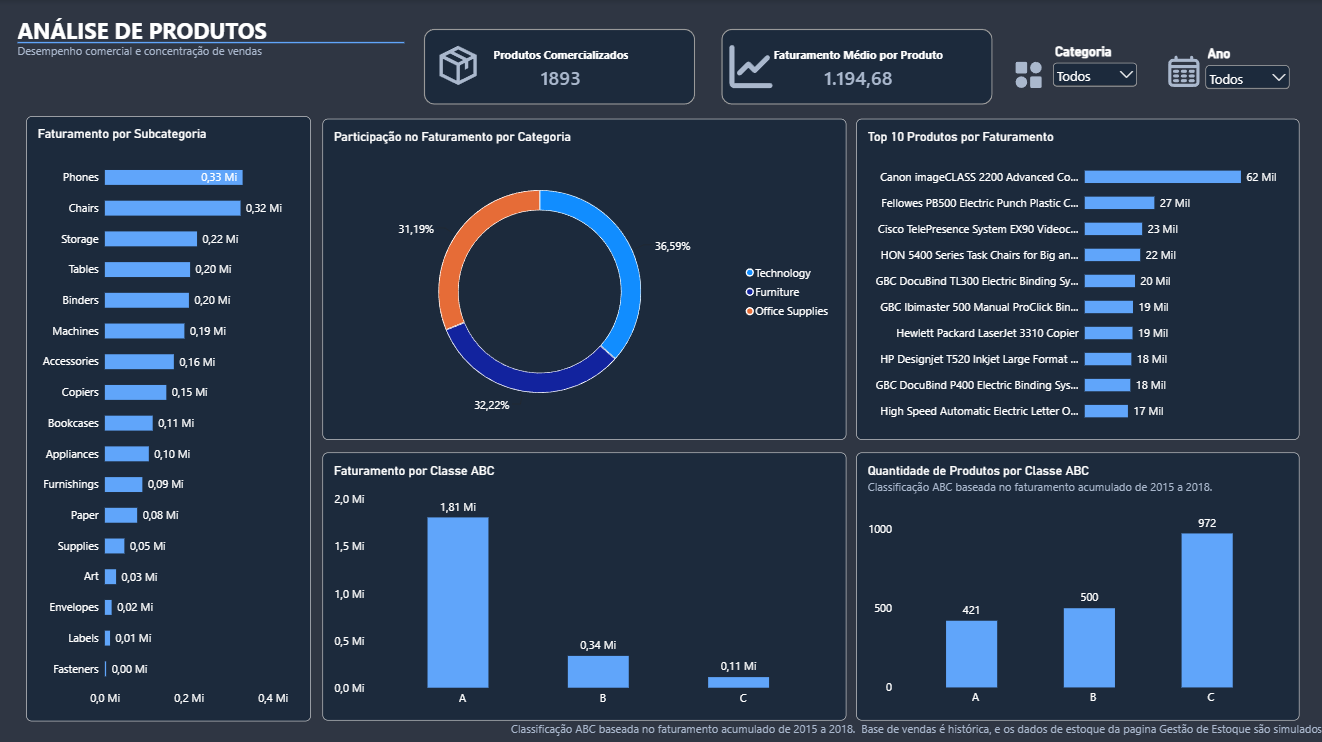

What the dashboard file says about the page in this screenshot:
{"tool":"powerbi","page":{"name":"Análise de Produtos","canvas":[1920,1080],"ordinal":1},"visuals":[{"type":"textbox","box":[26,22,610,58],"z":0},{"type":"cardVisual","fields":{"Data":["Fato_Vendas.Produtos Comercializados"]},"box":[613.3,41.7,393.3,110],"z":0,"group":"g5"},{"type":"image","box":[615.5,53.9,96.1,78.6],"z":1000,"group":"g5"},{"type":"textbox","box":[26,62,424,46],"z":1000},{"type":"shape","box":[26,42,560,40],"z":2000},{"type":"clusteredBarChart","title":"Top 10 Produtos por Faturamento","fields":{"Category":["Dim_Produtos.Nome_Produto"],"Y":["Fato_Vendas.Faturamento Total"]},"box":[1240,171.7,641.7,465],"z":3000},{"type":"clusteredBarChart","title":"Faturamento por Subcategoria","fields":{"Category":["Dim_Produtos.Subcategoria"],"Y":["Fato_Vendas.Faturamento Total"]},"box":[38,168,412,876],"z":4000},{"type":"slicer","fields":{"Values":["Dim_Produtos.Categoria"]},"box":[1510,53.3,151.7,85],"z":5000,"group":"g4"},{"type":"donutChart","title":"Participação no Faturamento por Categoria","fields":{"Category":["Dim_Produtos.Categoria"],"Y":["Fato_Vendas.Participação Categoria %"]},"box":[466.7,171.7,758.3,465],"z":5000},{"type":"clusteredColumnChart","title":"Faturamento por Classe ABC","fields":{"Category":["Dim_Produtos.Classe_ABC"],"Y":["Fato_Vendas.Faturamento Total"]},"box":[466.7,655,758.3,388.3],"z":6000},{"type":"slicer","fields":{"Values":["Dim_Calendario.Ano"]},"box":[1729.3,56.7,151.7,78.3],"z":7000,"group":"g2"},{"type":"clusteredColumnChart","title":"Quantidade de Produtos por Classe ABC","fields":{"Category":["Dim_Produtos.Classe_ABC"],"Y":["Fato_Vendas.Produtos Comercializados"]},"box":[1240,655,641.7,388.3],"z":7000},{"type":"group","id":"g1","title":"Grupo 2","box":[1043.3,41.7,393.3,110],"z":8000},{"type":"image","box":[1673.3,76.7,80,54],"z":8000,"group":"g2"},{"type":"cardVisual","fields":{"Data":["Fato_Vendas.Faturamento Médio por Produto"]},"box":[1043.3,41.7,393.3,110],"z":9000,"group":"g1"},{"type":"group","id":"g2","title":"Grupo 3","box":[1673.3,56.7,208.3,78.3],"z":9000},{"type":"group","id":"g3","title":"Grupo 4","box":[613.3,41.7,393.3,110],"z":10000},{"type":"group","id":"g4","title":"Grupo 5","box":[1456.7,53.3,205,85],"z":11000},{"type":"textbox","box":[615.3,1044.2,1303,36.2],"z":12000},{"type":"image","box":[1043.3,51.5,90,88.4],"z":12001,"group":"g1"},{"type":"group","id":"g5","title":"Grupo 1","box":[613.3,41.7,393.3,110],"z":12003,"group":"g3"},{"type":"image","box":[1456.7,83.3,65,50],"z":12003,"group":"g4"}]}

Visuals, with their boxes in screenshot pixels (x1, y1, x2, y2), scaled from the page's 1920x1080 canvas onto the 1322x742 screenshot:
textbox: x1=18 y1=15 x2=438 y2=55
cardVisual - Fato_Vendas.Produtos Comercializados: x1=422 y1=29 x2=693 y2=104
image: x1=424 y1=37 x2=490 y2=91
textbox: x1=18 y1=43 x2=310 y2=74
shape: x1=18 y1=29 x2=403 y2=56
"Top 10 Produtos por Faturamento" clusteredBarChart: x1=854 y1=118 x2=1296 y2=437
"Faturamento por Subcategoria" clusteredBarChart: x1=26 y1=115 x2=310 y2=717
slicer - Dim_Produtos.Categoria: x1=1040 y1=37 x2=1144 y2=95
"Participação no Faturamento por Categoria" donutChart: x1=321 y1=118 x2=843 y2=437
"Faturamento por Classe ABC" clusteredColumnChart: x1=321 y1=450 x2=843 y2=717
slicer - Dim_Calendario.Ano: x1=1191 y1=39 x2=1295 y2=93
"Quantidade de Produtos por Classe ABC" clusteredColumnChart: x1=854 y1=450 x2=1296 y2=717
"Grupo 2" group: x1=718 y1=29 x2=989 y2=104
image: x1=1152 y1=53 x2=1207 y2=90
cardVisual - Fato_Vendas.Faturamento Médio por Produto: x1=718 y1=29 x2=989 y2=104
"Grupo 3" group: x1=1152 y1=39 x2=1296 y2=93
"Grupo 4" group: x1=422 y1=29 x2=693 y2=104
"Grupo 5" group: x1=1003 y1=37 x2=1144 y2=95
textbox: x1=424 y1=717 x2=1321 y2=741
image: x1=718 y1=35 x2=780 y2=96
"Grupo 1" group: x1=422 y1=29 x2=693 y2=104
image: x1=1003 y1=57 x2=1048 y2=92
